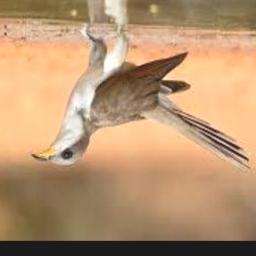Cuckoo: (31, 28, 250, 174)
